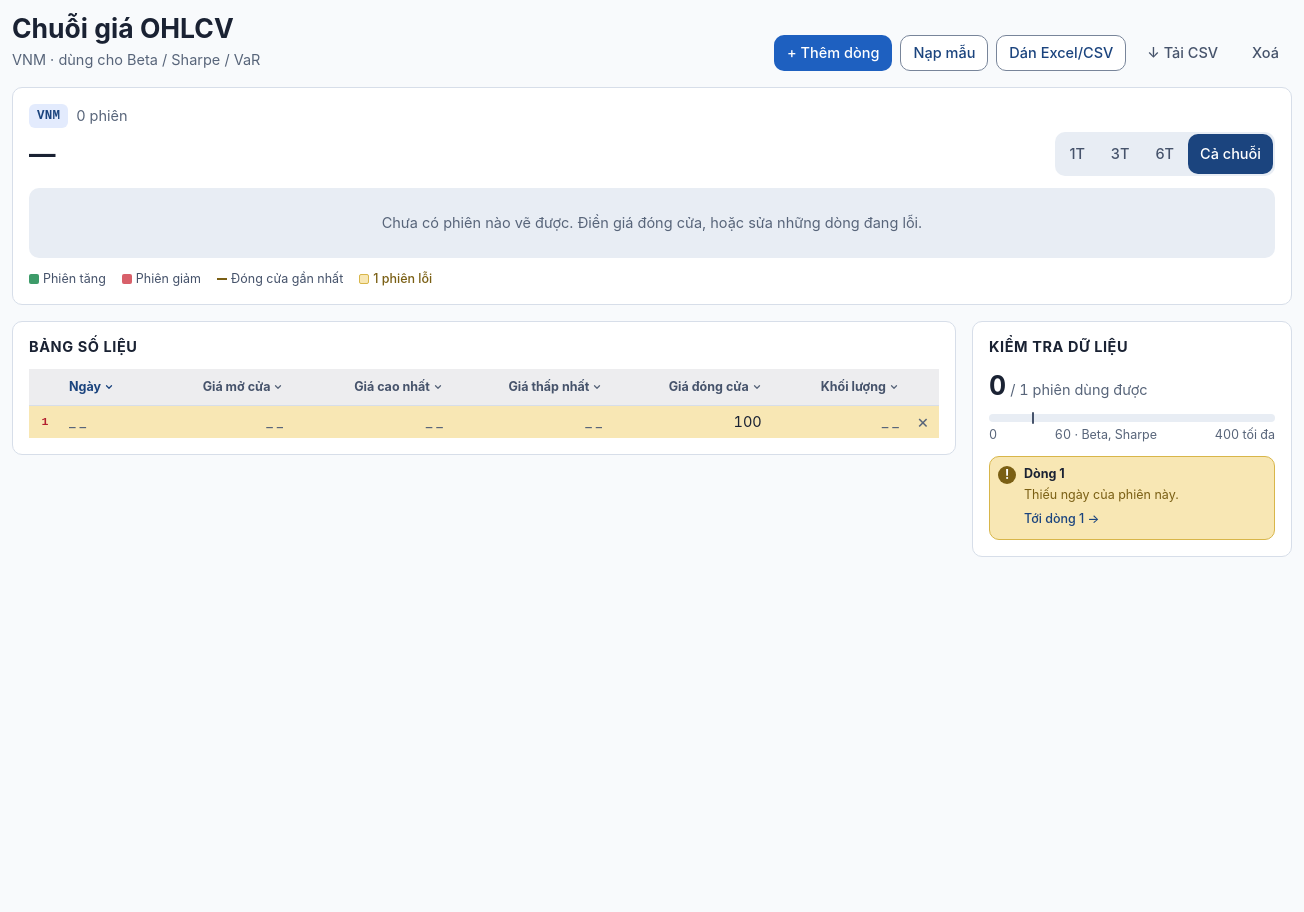
DataTableScreen — bảng phải đọc ra là bảng nhập được › ô Ngày không nhận chữ cái, chỉ chữ số và dấu ngăn
This screenshot has width=1304, height=912.
In the field named "Dòng 1 · Ngày": {"x": 108, "y": 422} [61,406,154,438], type "ngày 15/07"
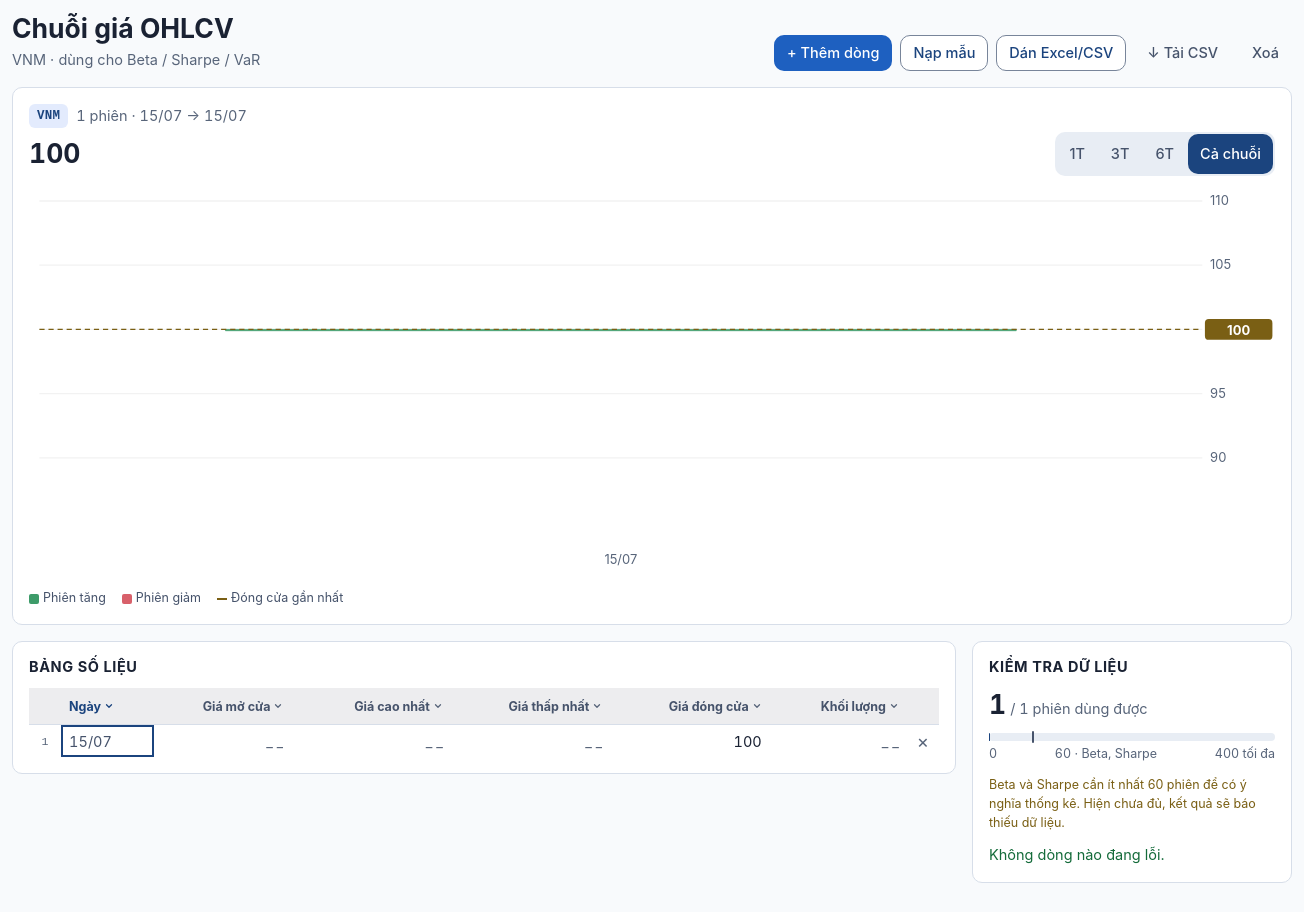
Check: the field named "Dòng 1 · Ngày" holds "15/07", box [61,725,154,757]
